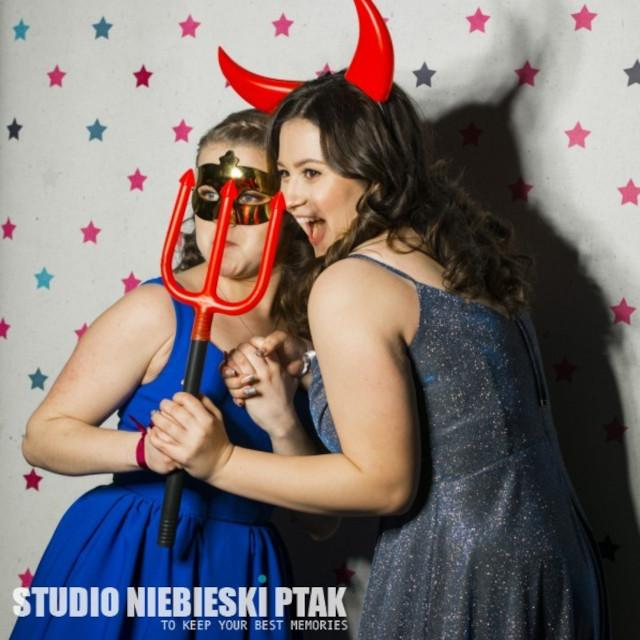kobieta: (274, 69, 609, 640), (33, 108, 301, 639)
